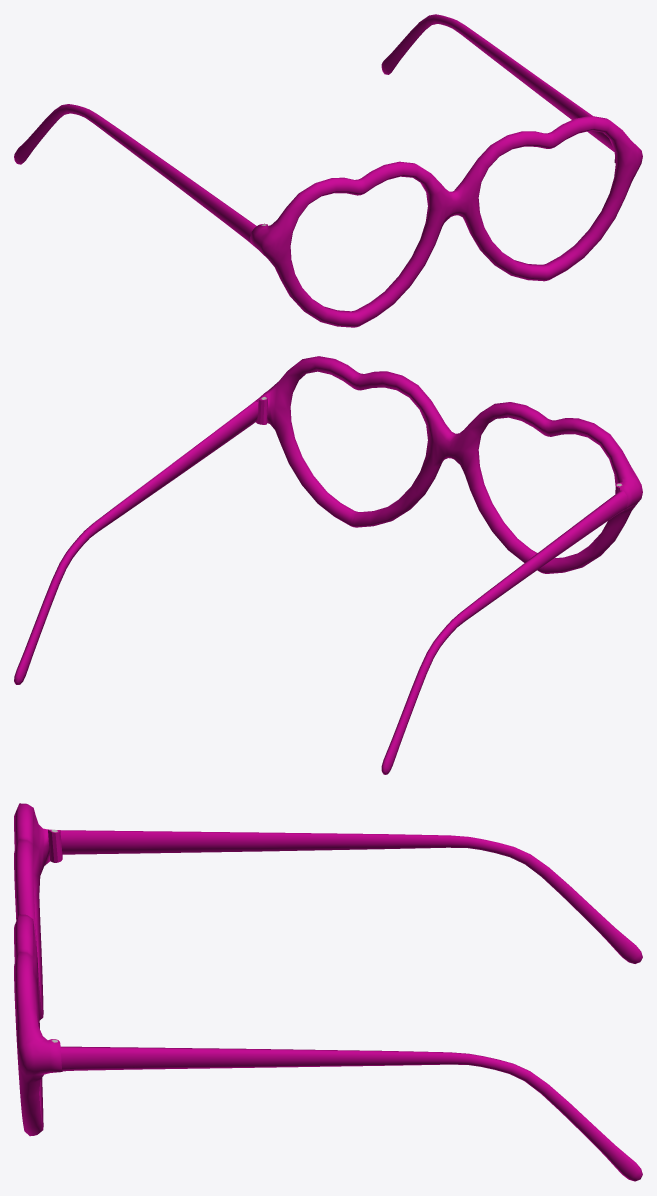
File: heart_glasses.gltf
The picture shows the model from 3 angles, top to bottom: view 1: azimuth 30°, elevation 25°; view 2: azimuth 150°, elevation 25°; view 3: azimuth 270°, elevation 25°; orthographic projection. The views are drawn at different scales.
Visible parts, largest first — view 1: heart glasses; view 2: heart glasses; view 3: heart glasses.
Part boxes in pixels (bbox=[...]): heart glasses: bbox=[14, 14, 642, 327]; heart glasses: bbox=[14, 356, 642, 774]; heart glasses: bbox=[14, 803, 642, 1181].
Bounding box in the file's own units: 0.4411 × 0.1748 × 0.5226.
Materials: 1 (1 with a texture image).
